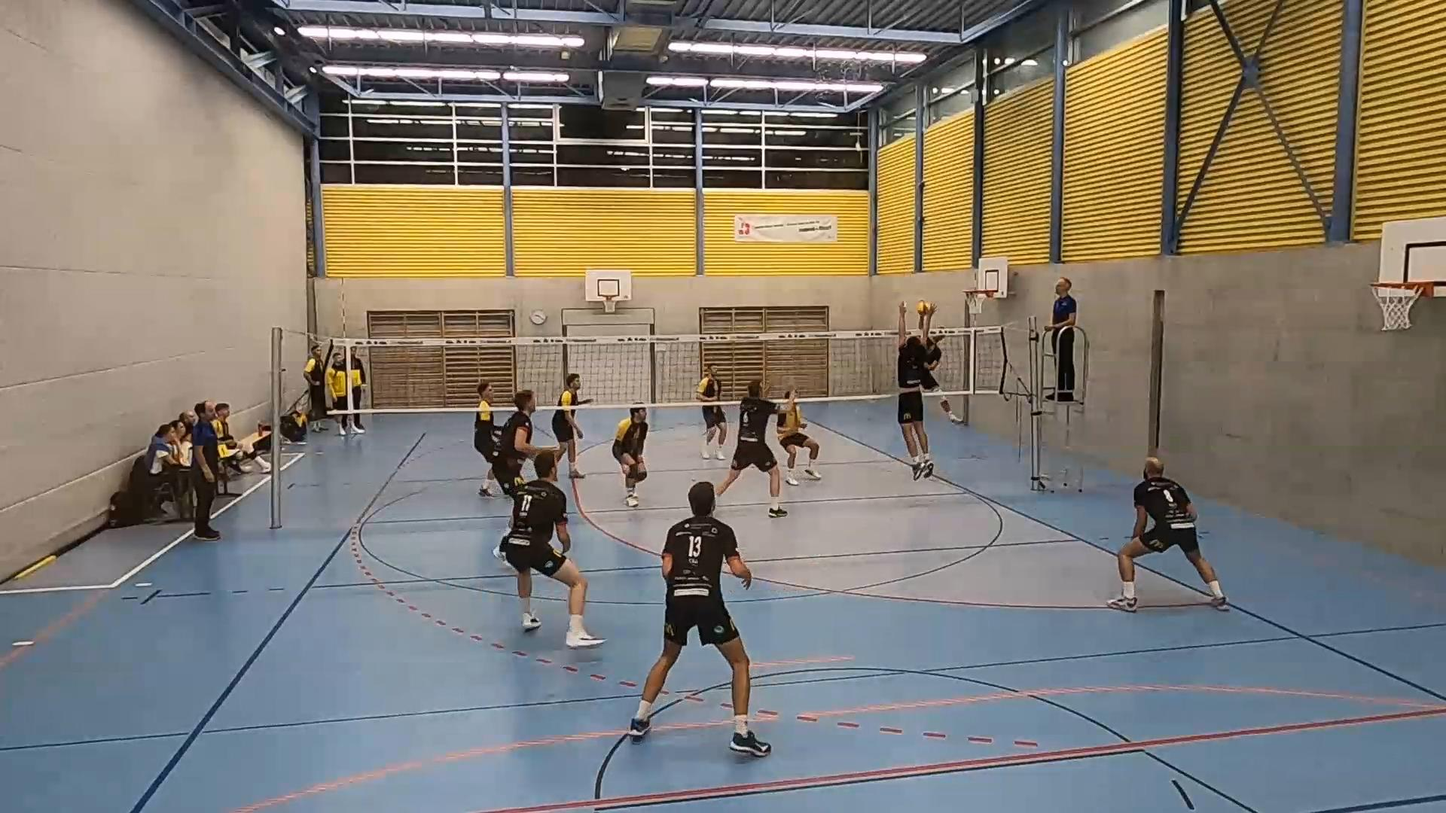Attack: (913, 300, 965, 423)
Block: (889, 309, 940, 479)
Player: (628, 483, 770, 757), (502, 449, 603, 647), (1108, 458, 1228, 611), (716, 380, 794, 517), (493, 391, 542, 496), (776, 388, 822, 486), (551, 373, 587, 478), (612, 406, 648, 507), (474, 380, 499, 497), (697, 364, 727, 459)
ball: (916, 302, 937, 315)
